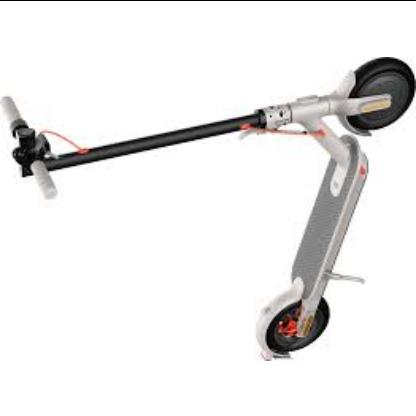bike: (5, 57, 416, 363)
